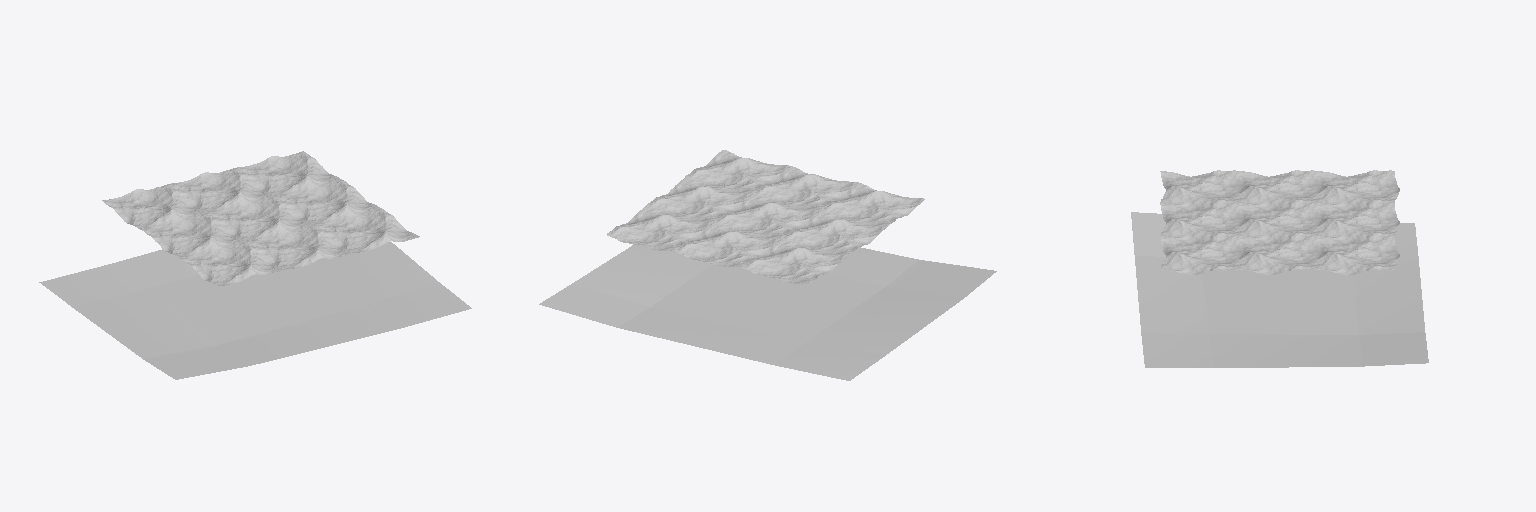
File: marine.obj
3 views of the same model, side by side, from view 1: azimuth 30°, elevation 25°; view 2: azimuth 150°, elevation 25°; view 3: azimuth 270°, elevation 25° (orthographic).
Visible parts, largest first — view 1: Plane, ocean_Plane.002; view 2: Plane, ocean_Plane.002; view 3: Plane, ocean_Plane.002.
Part boxes in pixels (x1,y1,x2,y2): Plane: (39,242,471,379); ocean_Plane.002: (102,151,419,285); Plane: (539,245,996,380); ocean_Plane.002: (607,150,924,284); Plane: (1131,212,1428,367); ocean_Plane.002: (1160,170,1399,275).
Bounding box in the file's own units: 15.23 × 3.88 × 12.68.